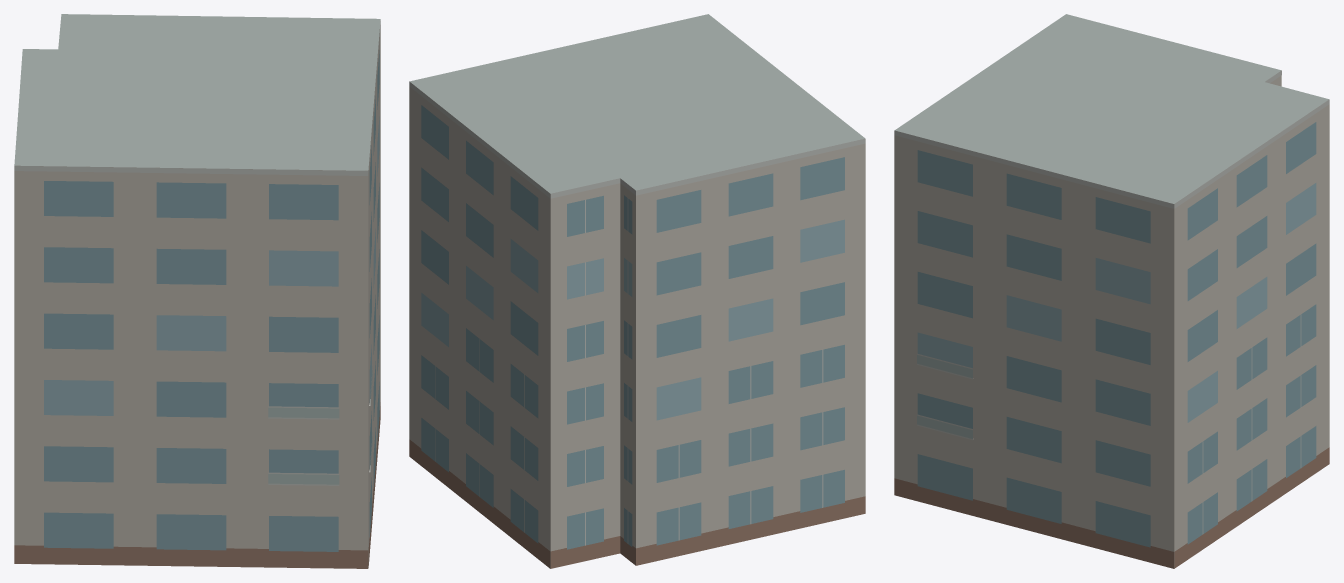
The model's file is survey-upis-33023554.glb.
3 renders of one model, left to right at view 1: azimuth 30°, elevation 25°; view 2: azimuth 150°, elevation 25°; view 3: azimuth 270°, elevation 25°, orthographic. The views are drawn at different scales.
Visible parts, largest first — view 1: survey-upis-33023554.tmp; view 2: survey-upis-33023554.tmp; view 3: survey-upis-33023554.tmp.
Boxes of the visible parts, bbox=[...] form: survey-upis-33023554.tmp: bbox=[14, 14, 380, 568]; survey-upis-33023554.tmp: bbox=[409, 14, 865, 568]; survey-upis-33023554.tmp: bbox=[894, 14, 1329, 568].
Bounding box in the file's own units: 20.46 × 18.3 × 19.79.
